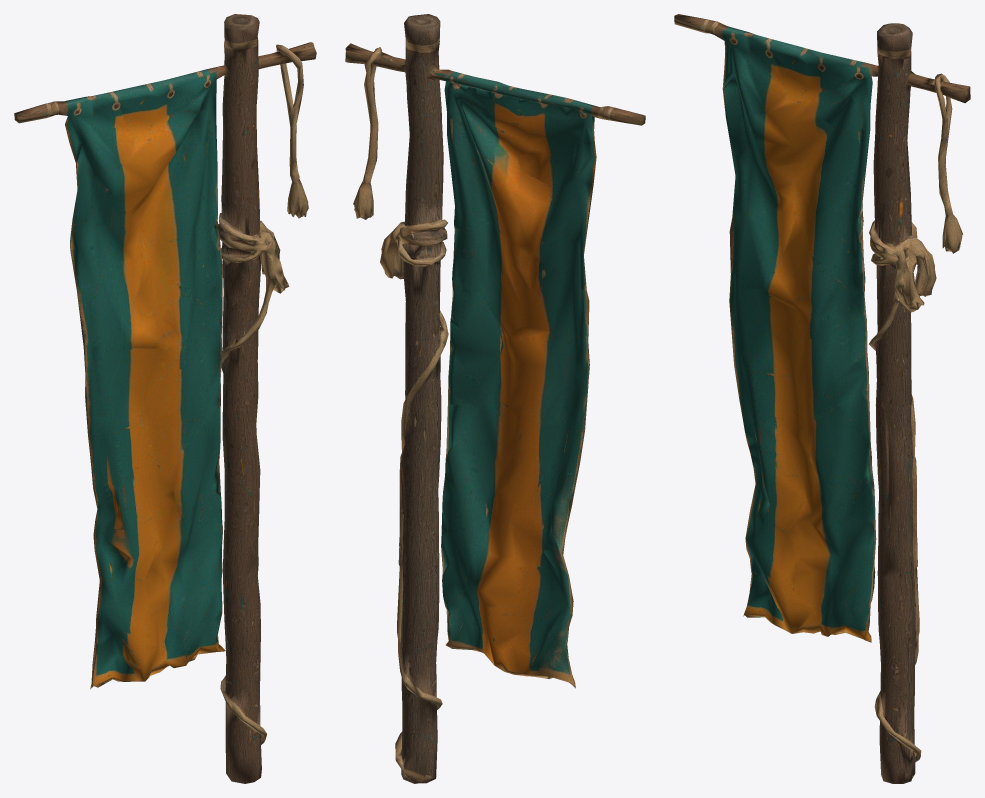
Rendered from banner.glb.
3 renders of one model, left to right at view 1: azimuth 30°, elevation 25°; view 2: azimuth 150°, elevation 25°; view 3: azimuth 330°, elevation 25°, orthographic.
Bounding box in the file's own units: 0.7778 × 1.9 × 0.1377.
Materials: 1 (1 with a texture image).
